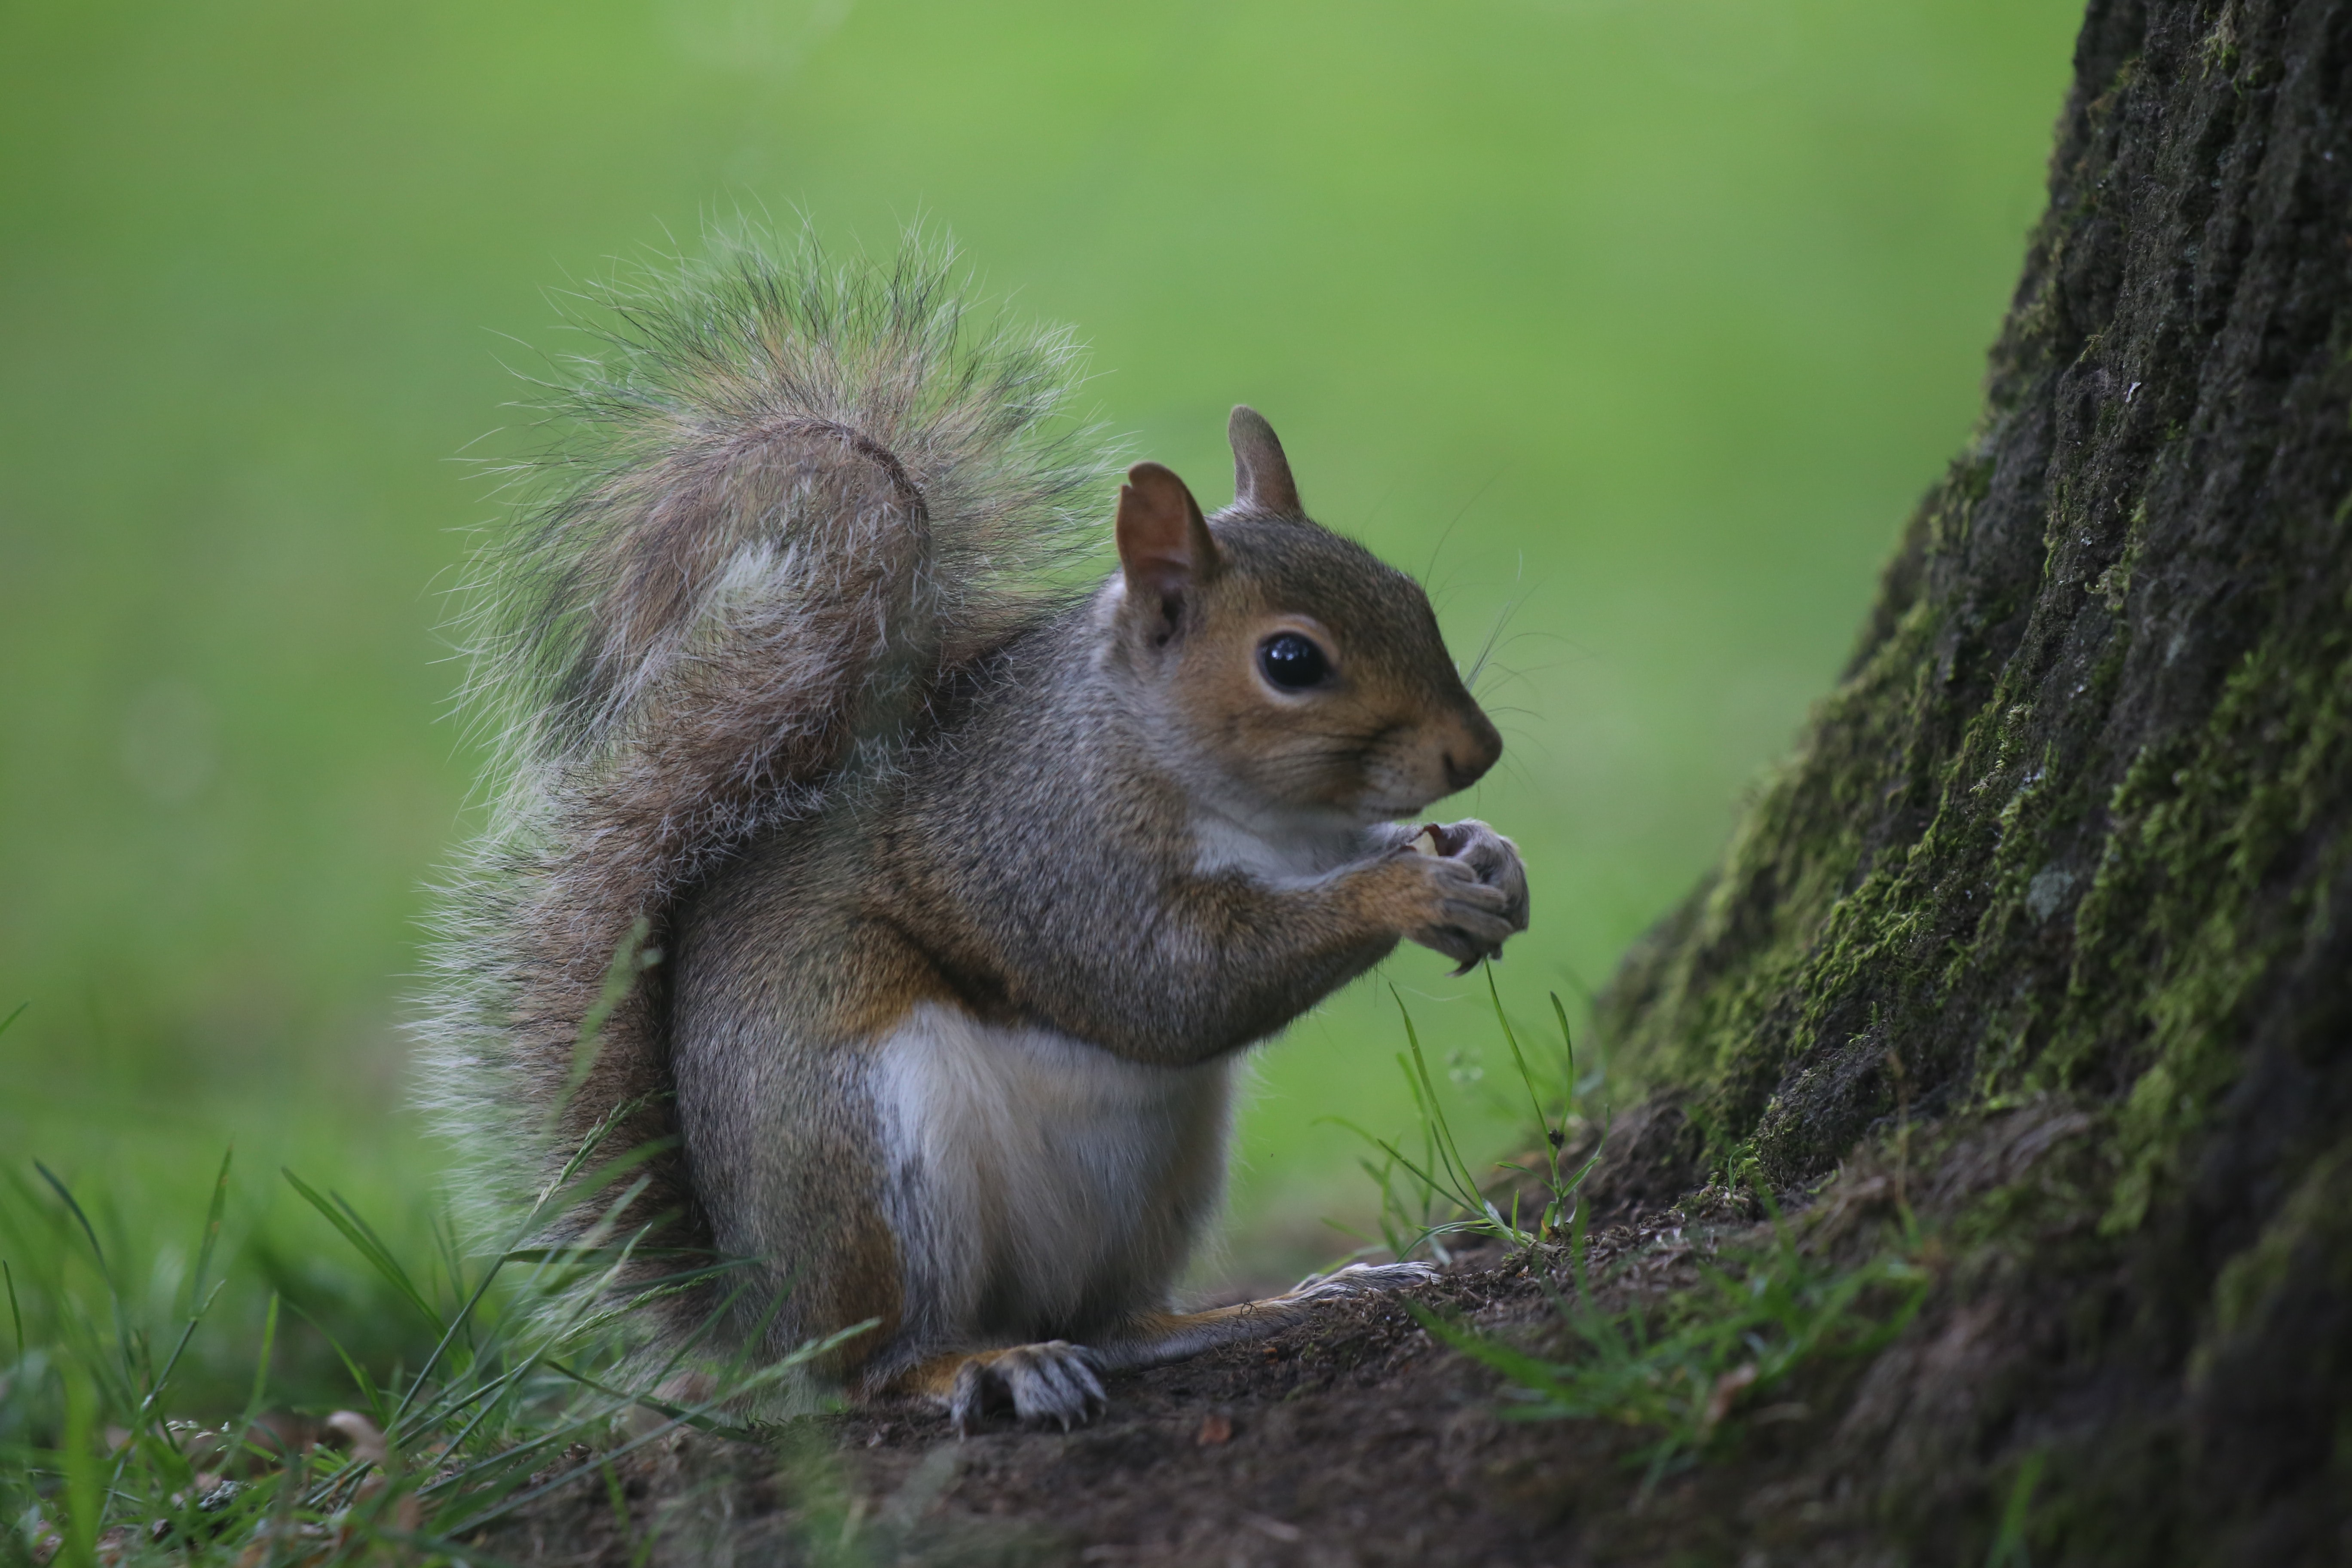squirrel: (425, 264, 1542, 1447)
